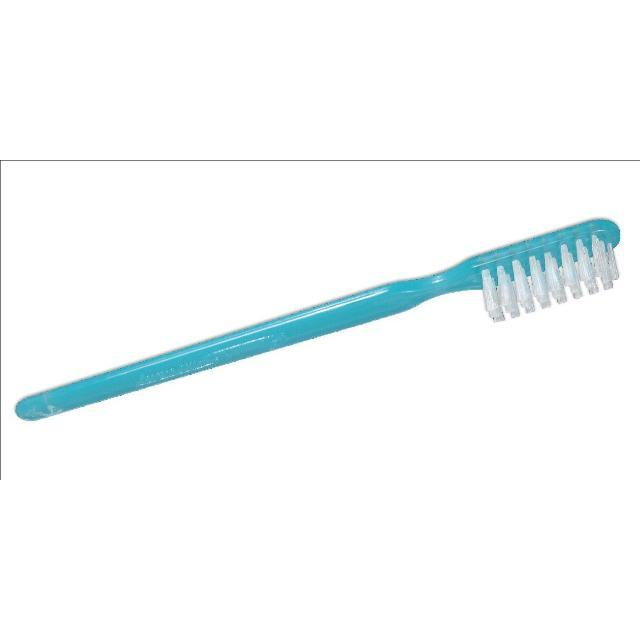toothbrush: (0, 176, 628, 454)
